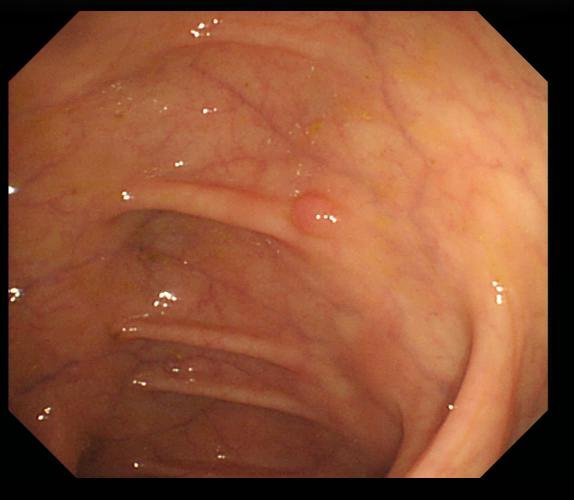polyp: (290, 189, 348, 239)
